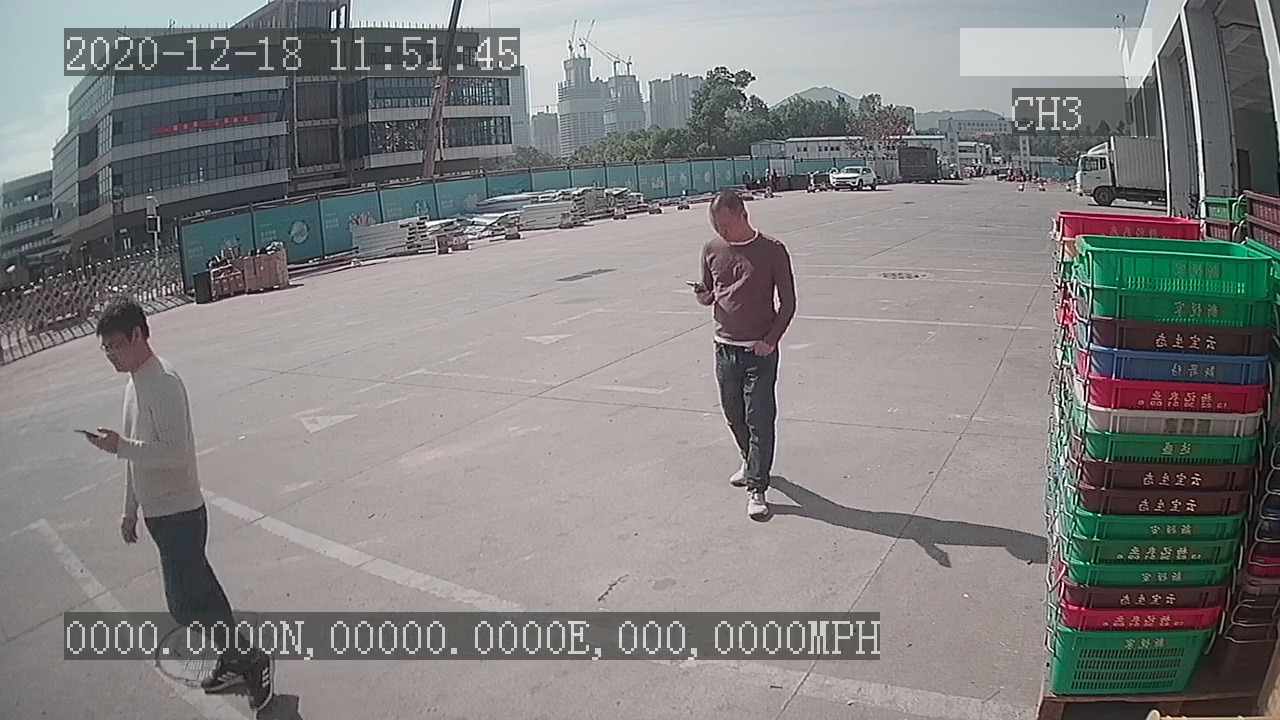person: (681, 186, 801, 524)
